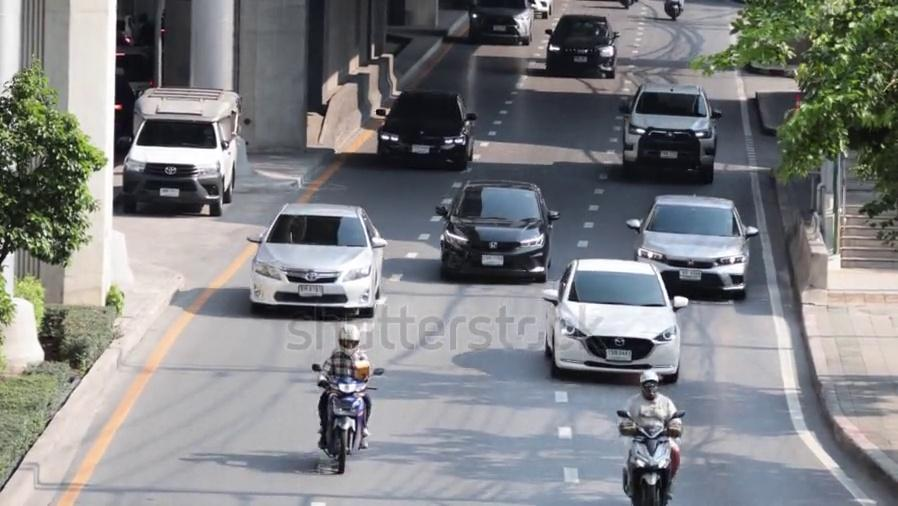rider: (616, 369, 683, 502), (313, 323, 377, 450)
with_helmate: (334, 325, 361, 355), (638, 372, 661, 401)
